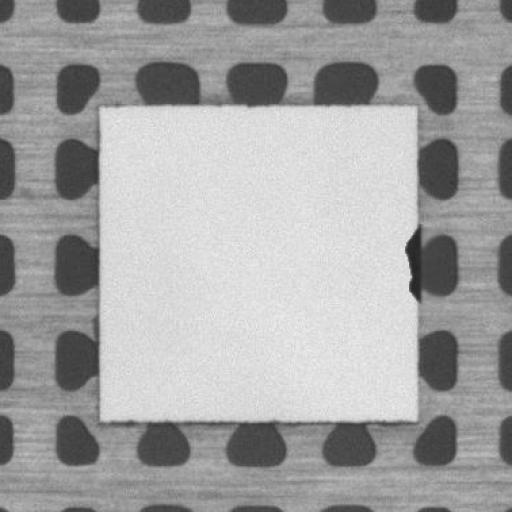DIE_BROKEN: (402, 223, 423, 309)
